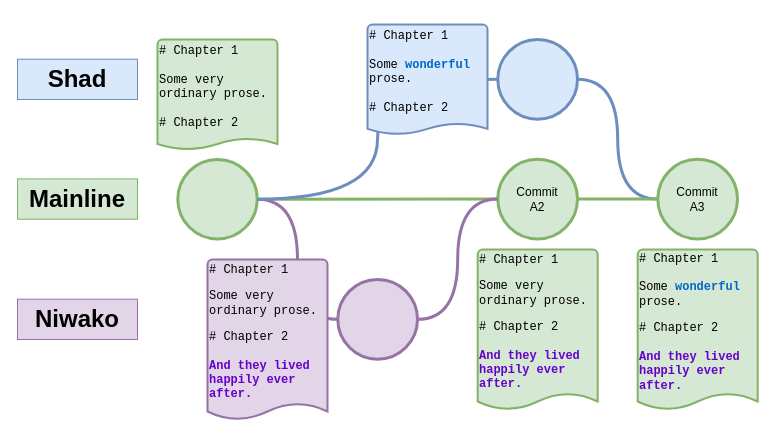
This 776x446 diagram has some shape labels left out. Here are the shapes that lost their labels. From the top down, the centre of each, then its label:
the point at 537,79: Commit B1
the point at 217,199: Commit A1
the point at 377,319: Commit C1
